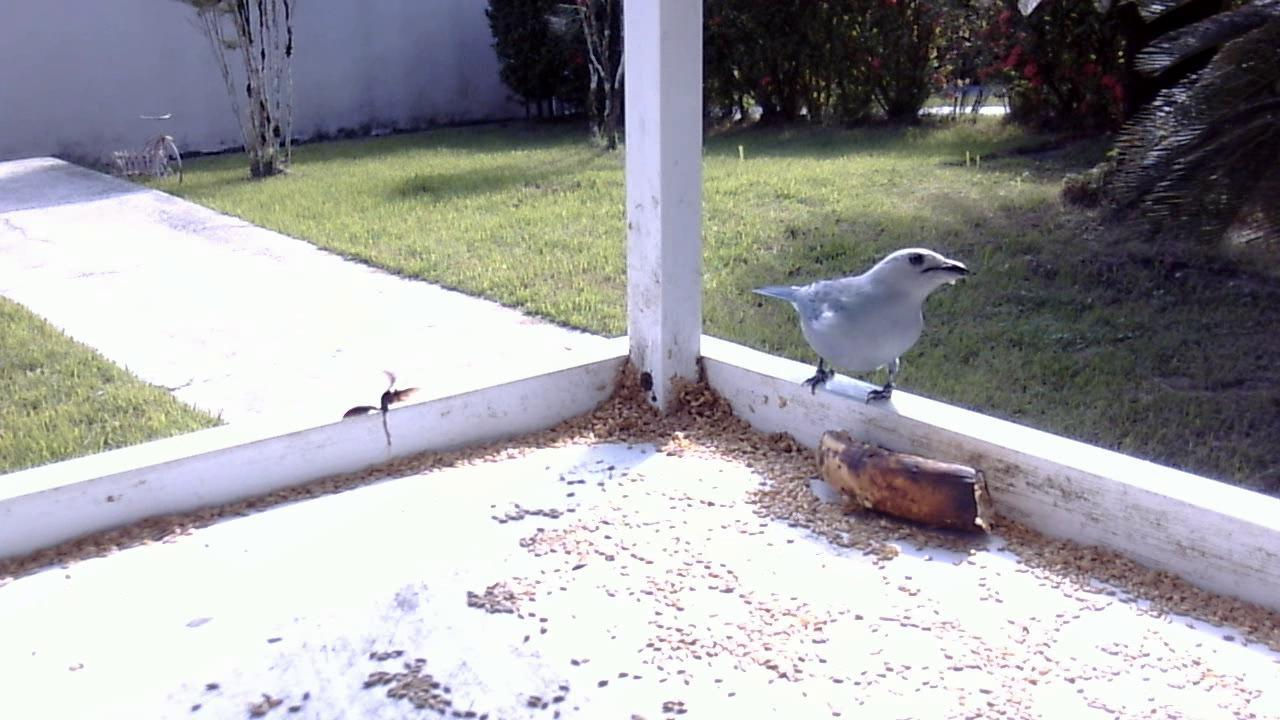sanhaco_da_amazonia: (753, 244, 966, 409)
